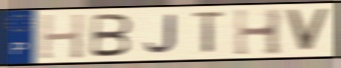B: (88, 12, 135, 58)
H: (233, 7, 284, 58), (38, 12, 86, 60)
J: (143, 13, 178, 55)
T: (191, 9, 228, 57)
V: (283, 8, 332, 54)
